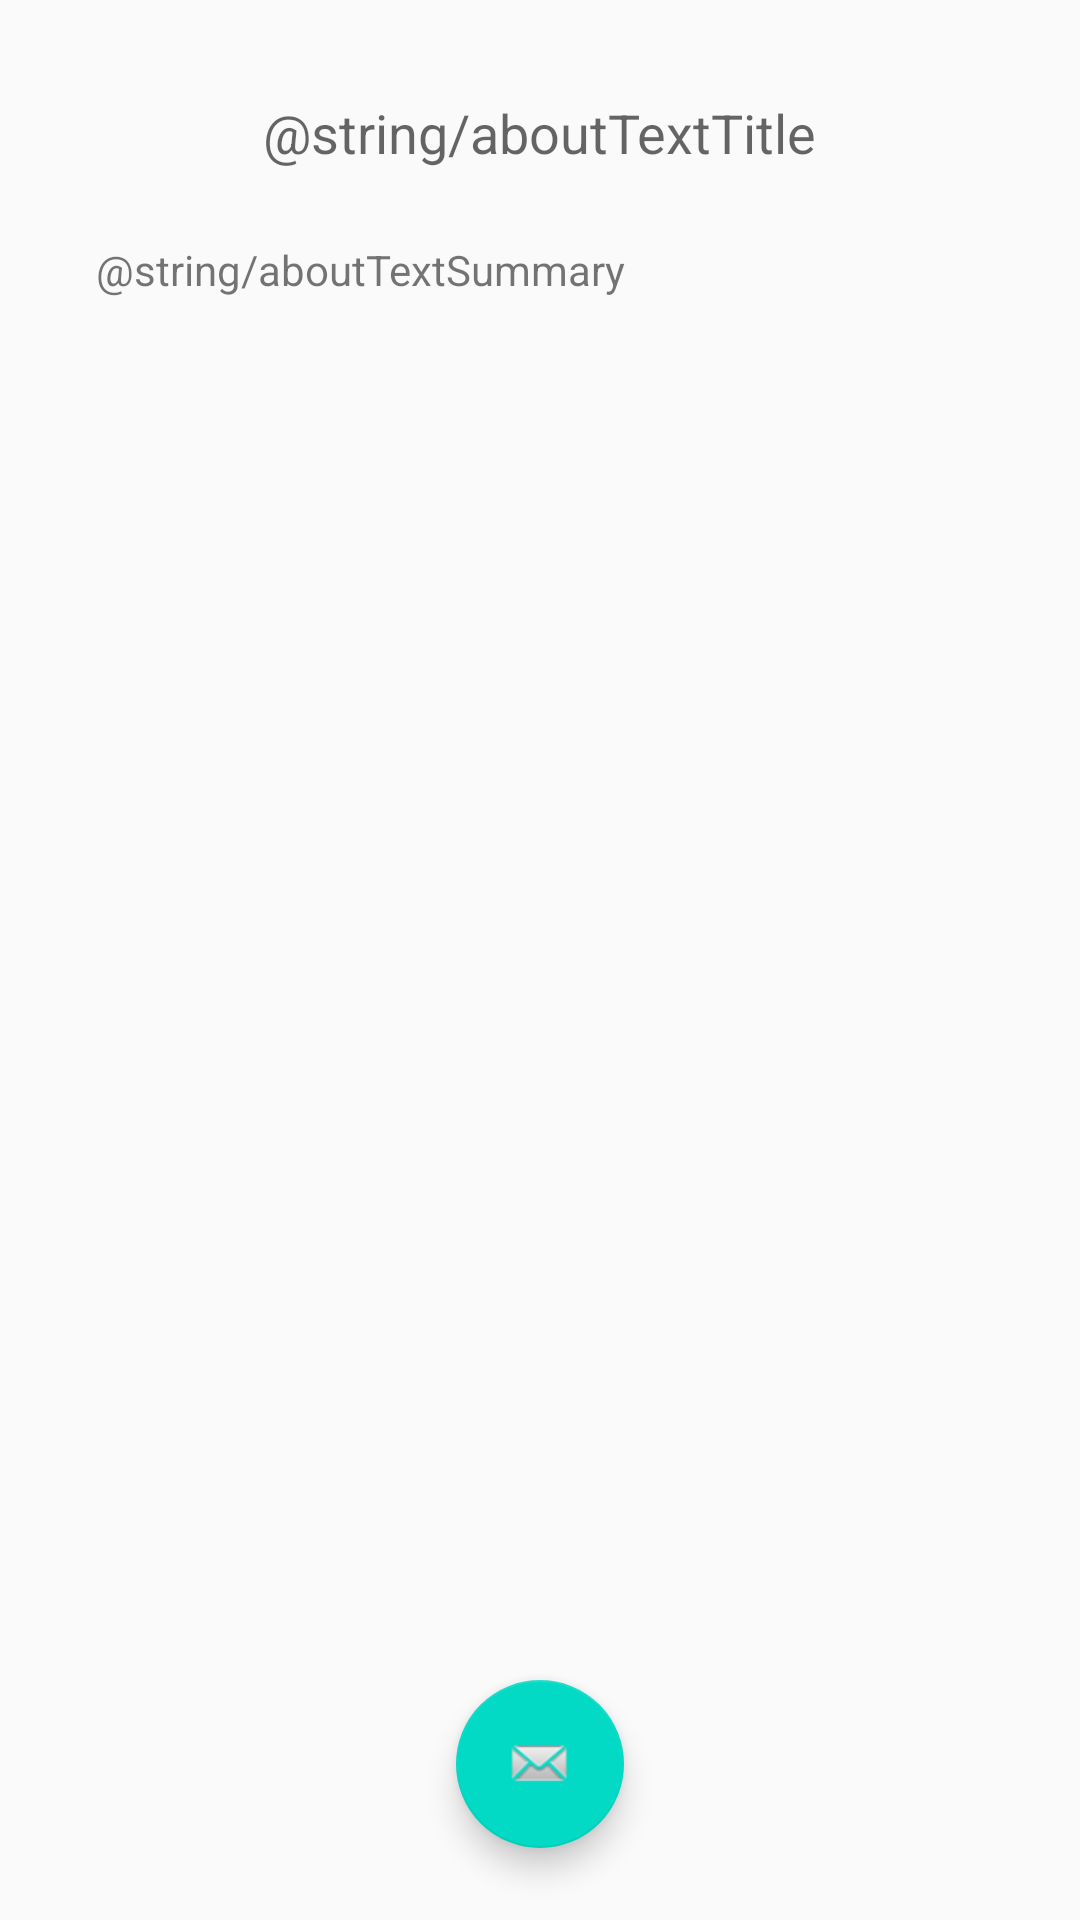

Icons on this 1080 x 1920 Android screen, each with the point to tap as [x,y]:
sym action email: [540,1764]
